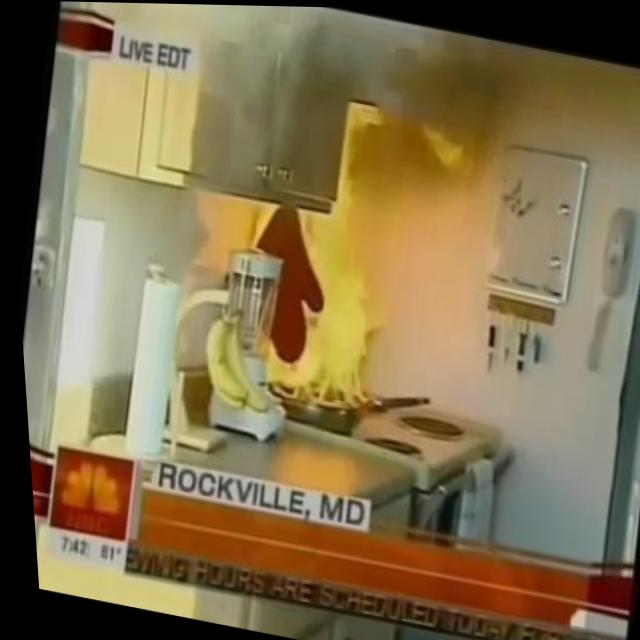fire: (221, 199, 403, 410), (328, 96, 478, 239)
